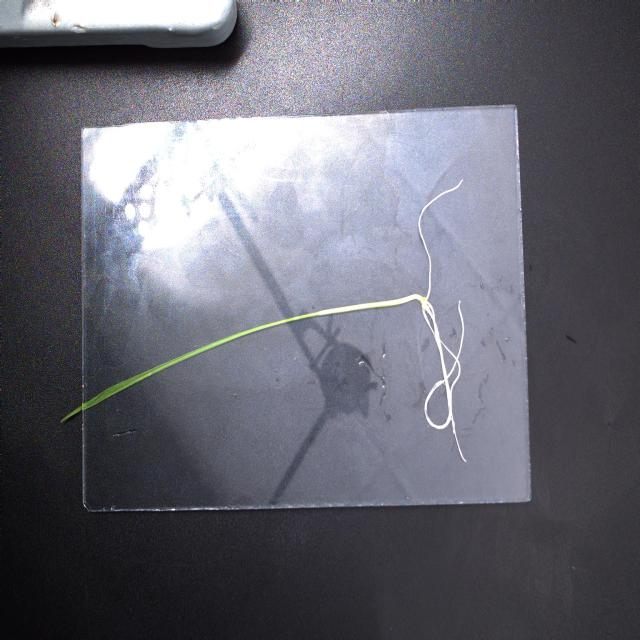leaf: (117, 312, 316, 392), (61, 385, 135, 424)
root: (415, 179, 467, 462)
stem: (314, 293, 424, 320)
